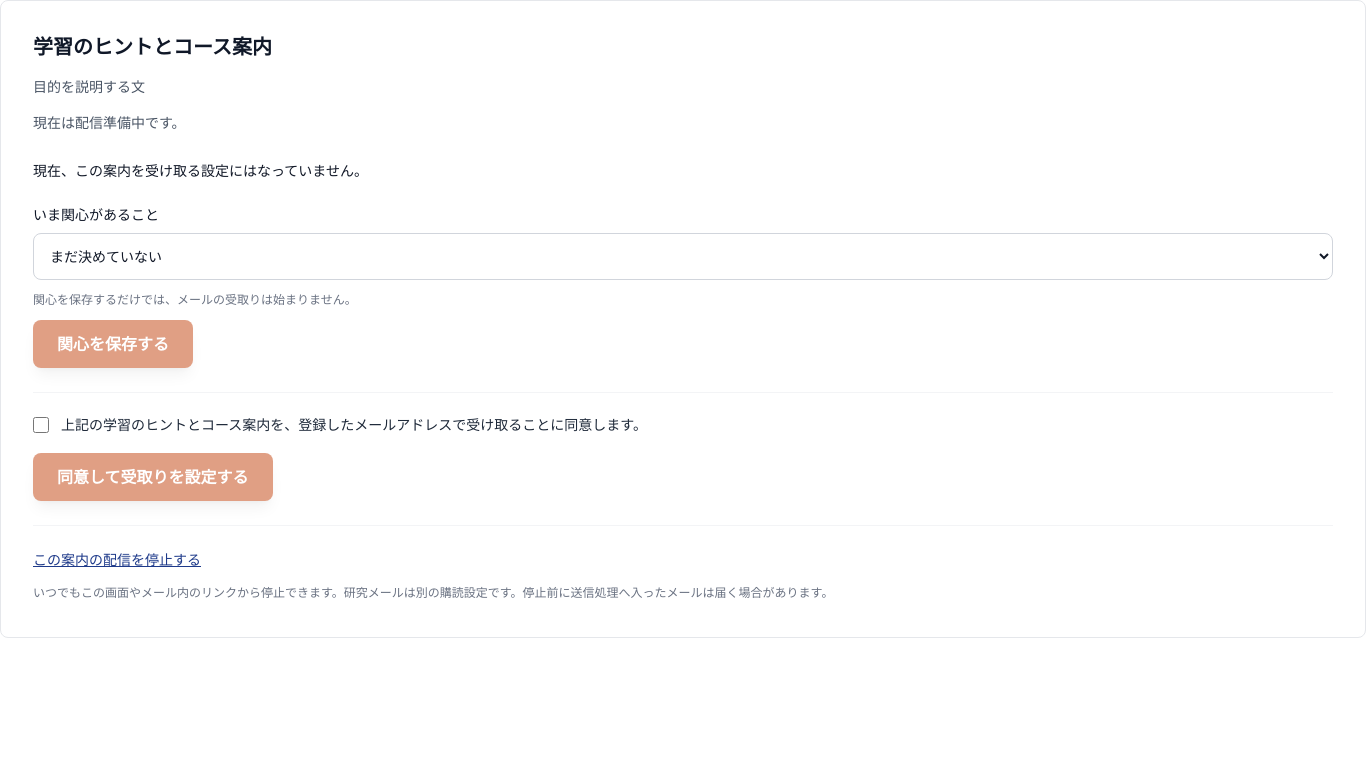
Test: interest is saved independently from consent
This screenshot has width=1366, height=768.
Select "チームに伝えたい" in the dropdown at (683,256), box [33, 233, 1333, 280]
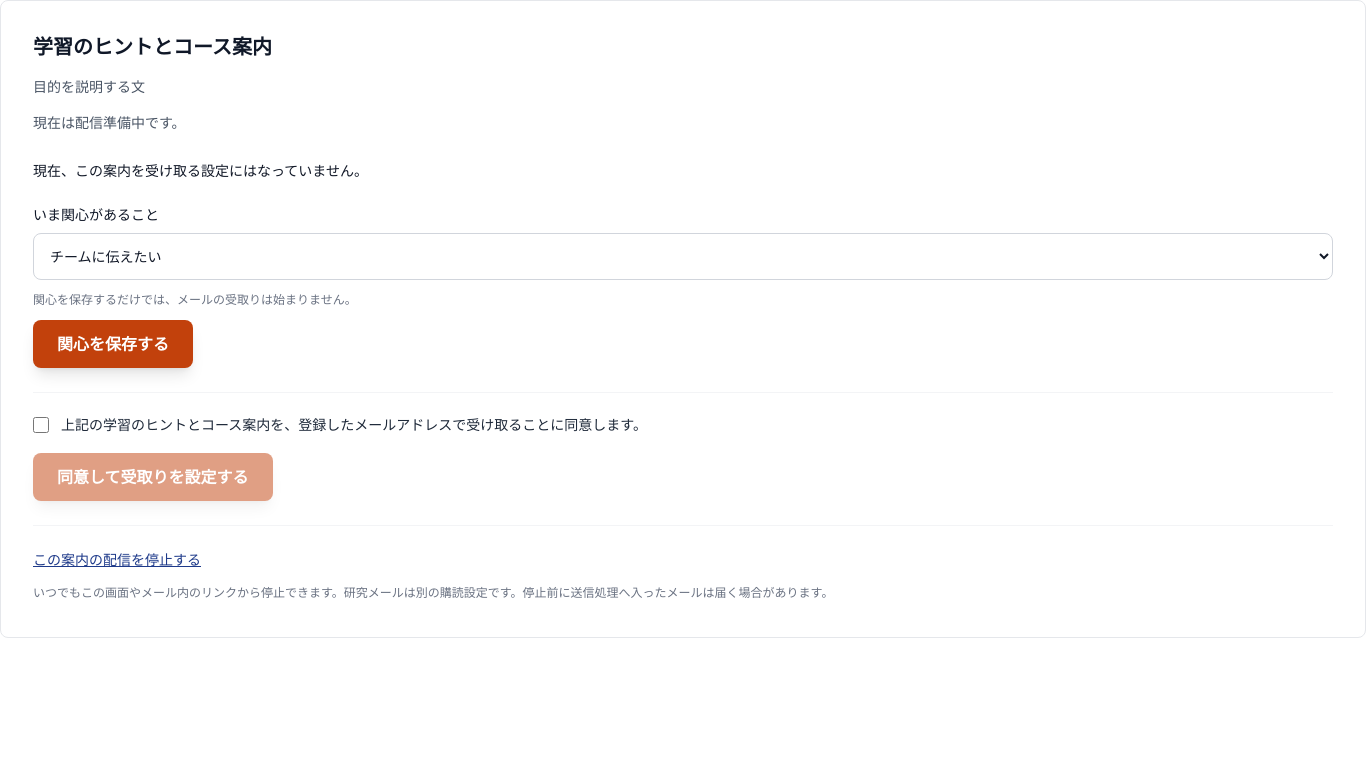
Click the button "関心を保存する" at (113,344), box [33, 320, 193, 368]
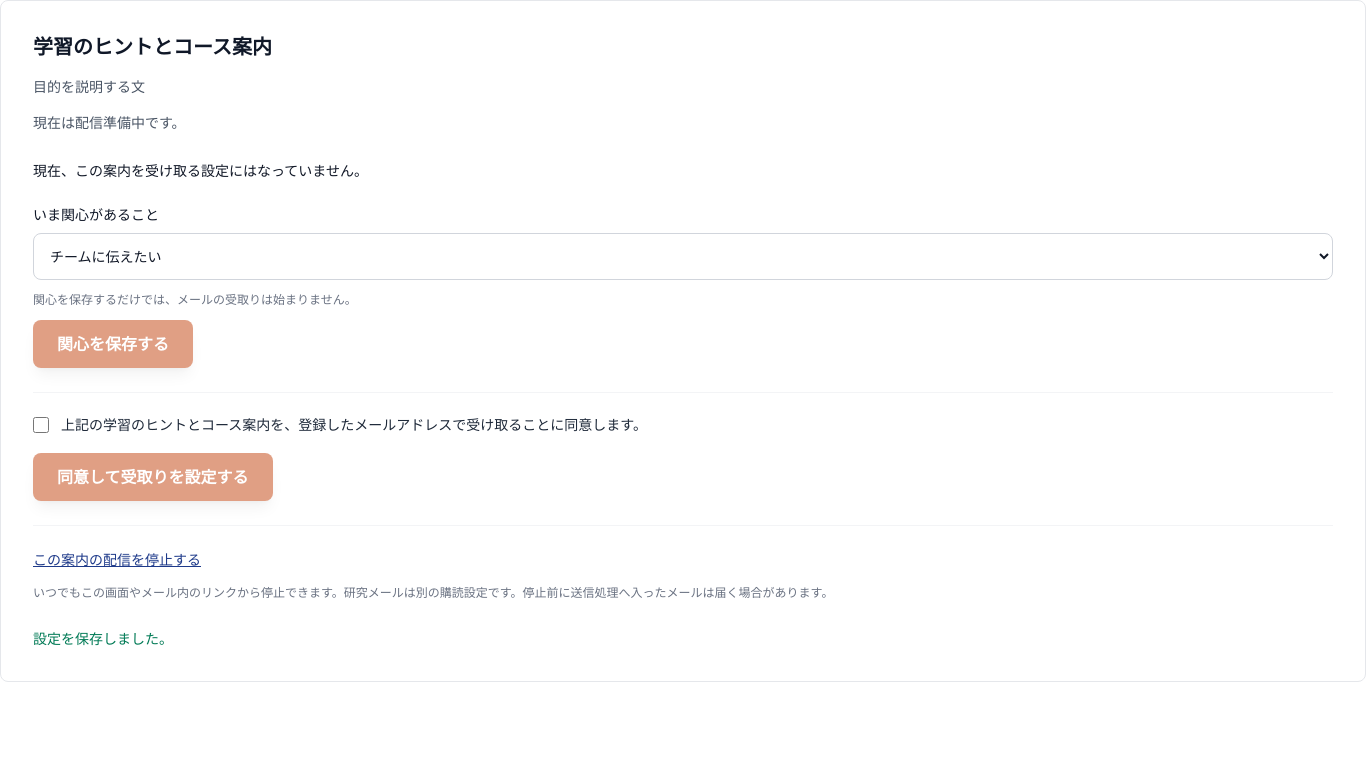
Expected: the checkbox is not checked, [33, 417, 49, 433]
Result: the text "設定を保存しました。" is shown at [33, 629, 173, 648]
